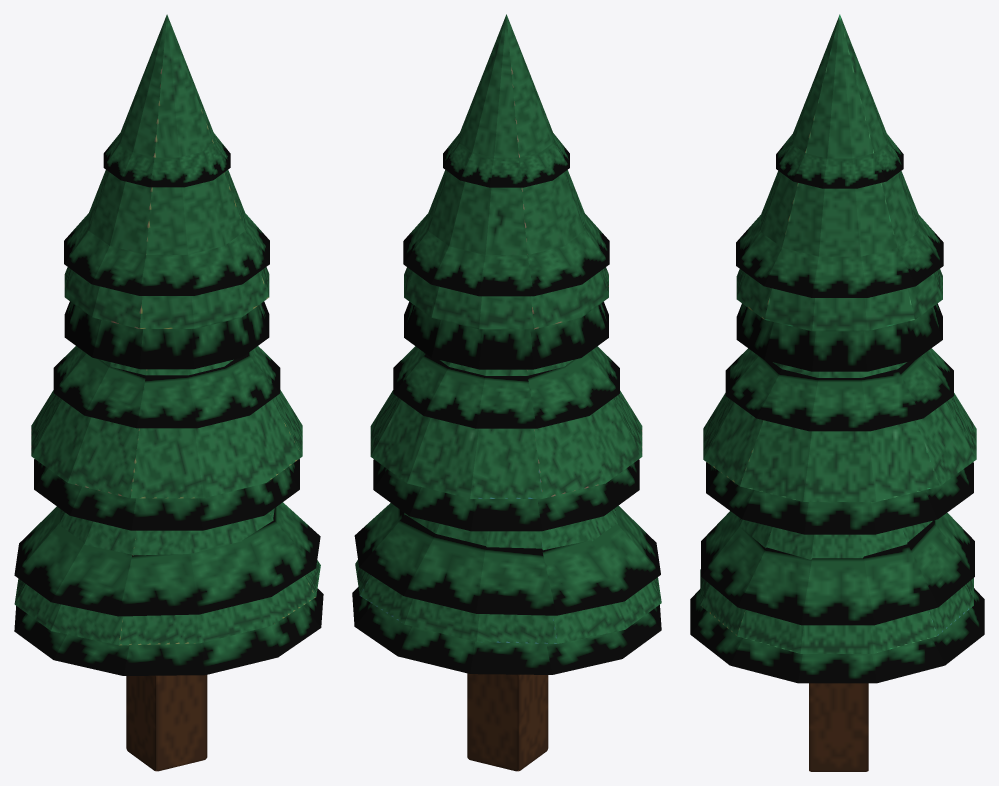
File: elka.fbx
3 renders of one model, left to right at view 1: azimuth 30°, elevation 25°; view 2: azimuth 150°, elevation 25°; view 3: azimuth 270°, elevation 25°, orthographic.
Parts seen in each view (by area): view 1: cube; view 2: cube; view 3: cube.
Part boxes in pixels (x1,y1,x2,y2): cube: (14,14,323,771); cube: (352,14,661,771); cube: (690,14,984,771).
Bounding box in the file's own units: 47.1 × 123 × 43.89.
3 materials, 3 textured.
